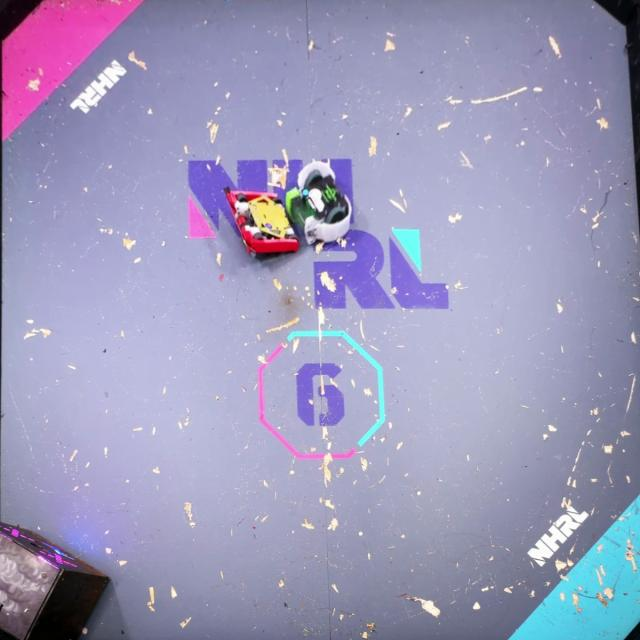housebot: (0, 518, 110, 640)
robot: (283, 160, 355, 245), (224, 184, 299, 256)
